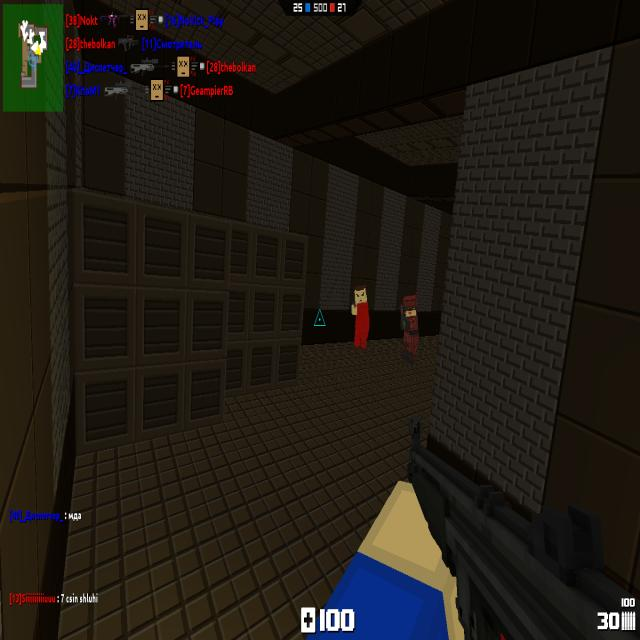enemy: (400, 294, 419, 366), (352, 282, 370, 352)
